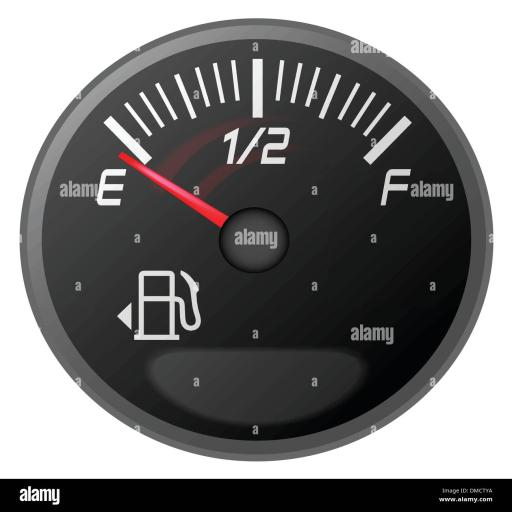empty: (94, 166, 127, 207)
fuel_icon: (133, 266, 201, 342)
full: (380, 166, 412, 206)
guage_area: (17, 16, 496, 462)
needle_center: (215, 204, 287, 270)
needle_tip: (112, 144, 157, 165)
